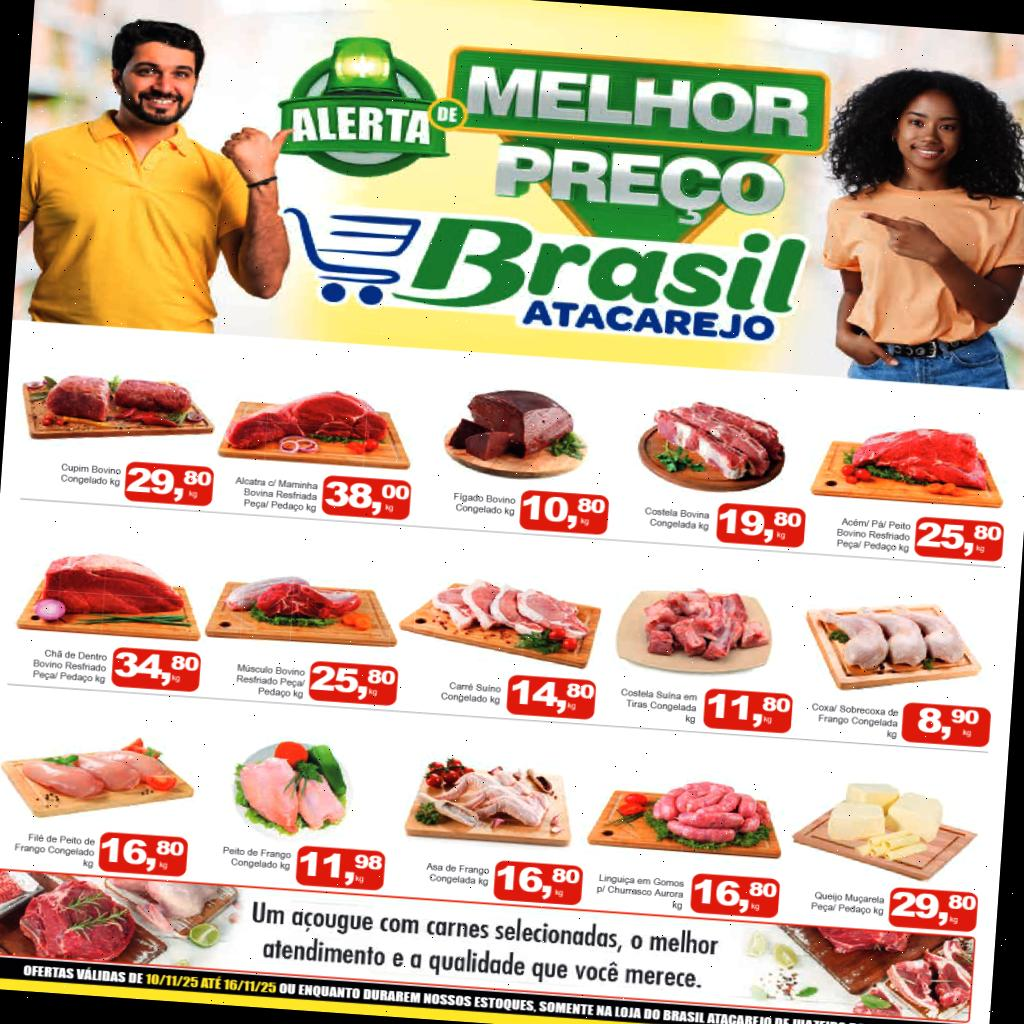price: (124, 464, 214, 506), (716, 505, 806, 547), (916, 520, 1004, 562), (508, 676, 595, 718), (704, 691, 790, 732), (322, 480, 410, 520), (520, 492, 608, 532), (890, 890, 978, 930), (297, 850, 384, 890), (310, 664, 396, 704), (692, 876, 778, 916), (112, 650, 200, 689), (99, 836, 185, 875), (495, 864, 581, 902), (910, 705, 988, 743)
product_text: (10, 828, 98, 872), (808, 700, 900, 742), (593, 872, 687, 912), (231, 474, 319, 516), (616, 682, 700, 726), (832, 514, 914, 556), (26, 646, 108, 687), (230, 660, 307, 702), (806, 889, 887, 921), (638, 503, 714, 534), (448, 487, 518, 520), (437, 676, 505, 708), (56, 460, 124, 491), (218, 844, 292, 872), (422, 861, 492, 890)
